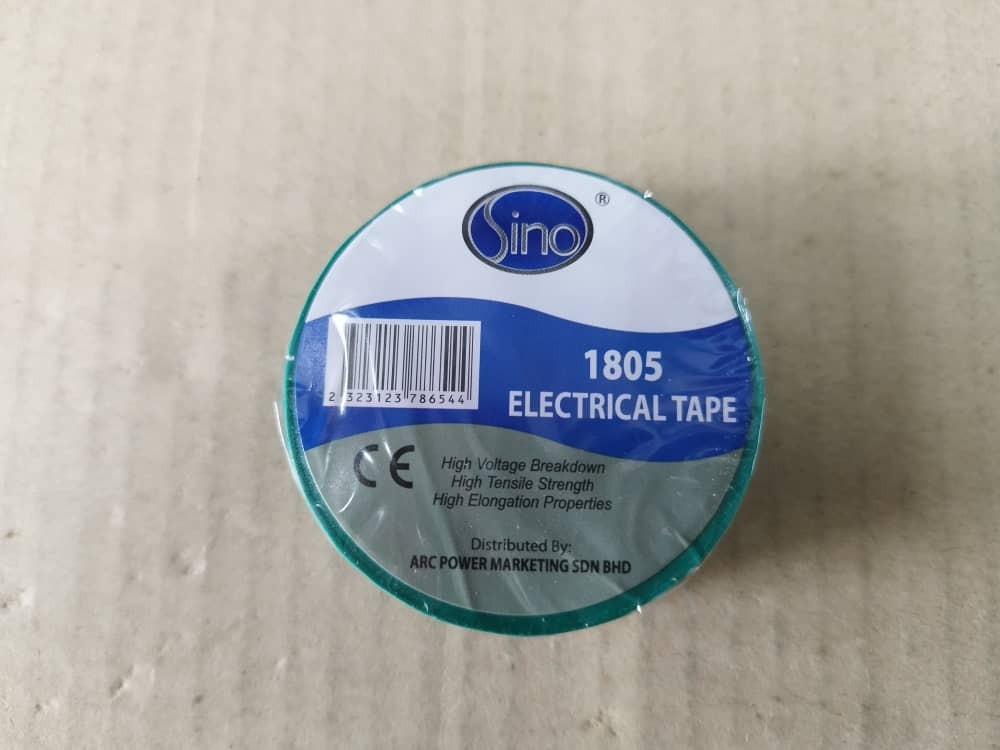sku_electrical_tape: (274, 158, 776, 643)
